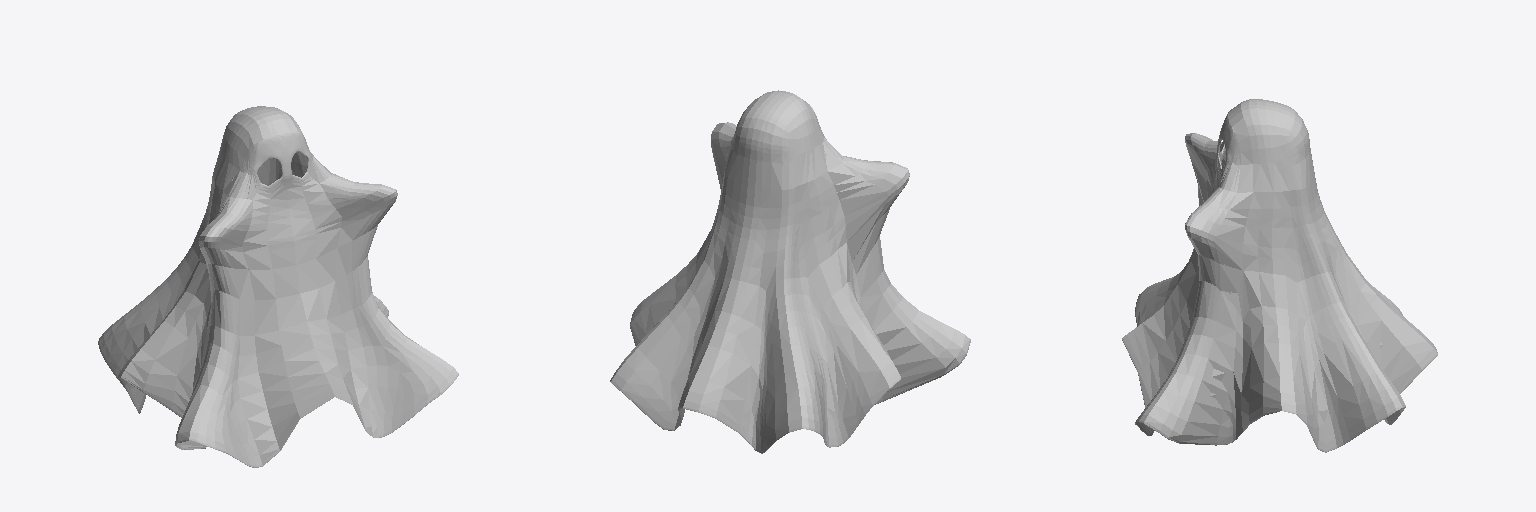
The picture shows the model from 3 angles: view 1: azimuth 30°, elevation 25°; view 2: azimuth 150°, elevation 25°; view 3: azimuth 270°, elevation 25°; orthographic projection.
Visible parts, largest first — view 1: youlinguu2:Group3 walk1; view 2: youlinguu2:Group3 walk1; view 3: youlinguu2:Group3 walk1.
Boxes of the visible parts, <box> form: youlinguu2:Group3 walk1: <box>98,106,458,467</box>; youlinguu2:Group3 walk1: <box>610,90,970,453</box>; youlinguu2:Group3 walk1: <box>1122,99,1437,452</box>.
Bounding box in the file's own units: 37.35 × 39.19 × 36.97.